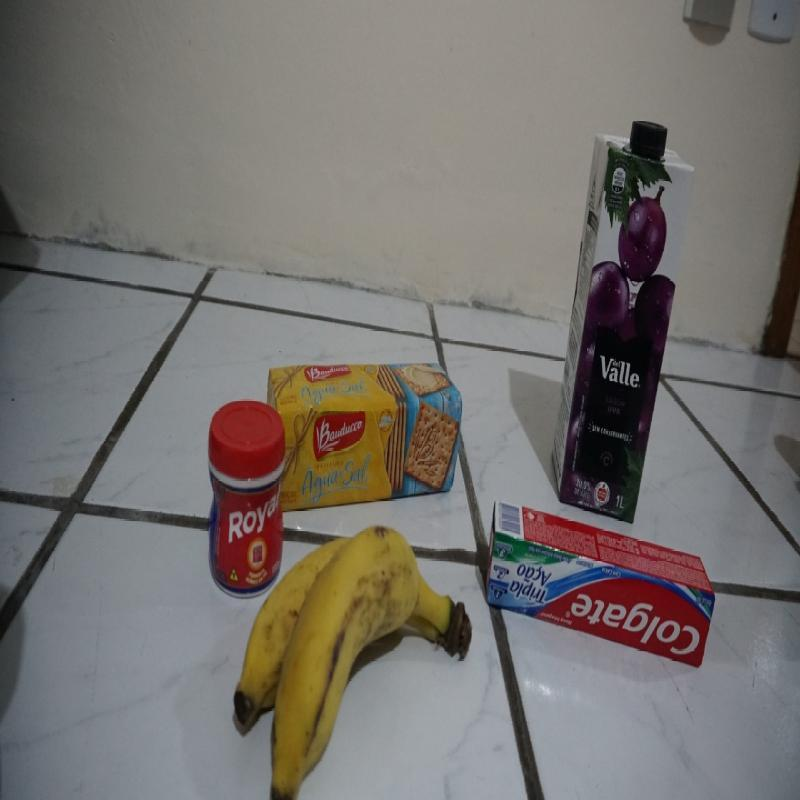Banana: (286, 508, 487, 769)
Cracker: (284, 366, 462, 505)
Toothpaste: (492, 500, 722, 674)
Yeast: (208, 400, 284, 590)
